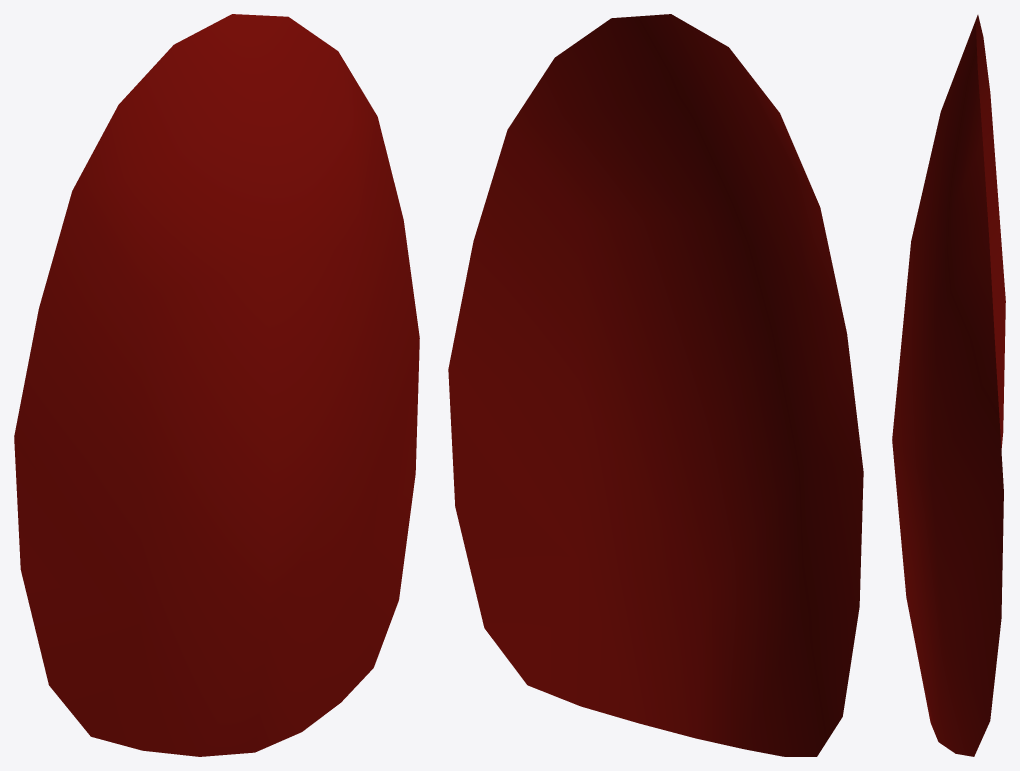
The model's file is MD_nail_natural_HandL.Little.fbx.
3 views of the same model, side by side, from view 1: azimuth 30°, elevation 25°; view 2: azimuth 150°, elevation 25°; view 3: azimuth 270°, elevation 25° (orthographic). The views are drawn at different scales.
Visible parts, largest first — view 1: MD_nail_natural_HandL.Little; view 2: MD_nail_natural_HandL.Little; view 3: MD_nail_natural_HandL.Little.
Part boxes in pixels (box(x1,y1,x2,y2)): MD_nail_natural_HandL.Little: box(14, 14, 419, 756); MD_nail_natural_HandL.Little: box(448, 14, 863, 756); MD_nail_natural_HandL.Little: box(892, 15, 1005, 756).
Size of the model in its own units: 0.5797 by 0.9874 by 0.1456.
